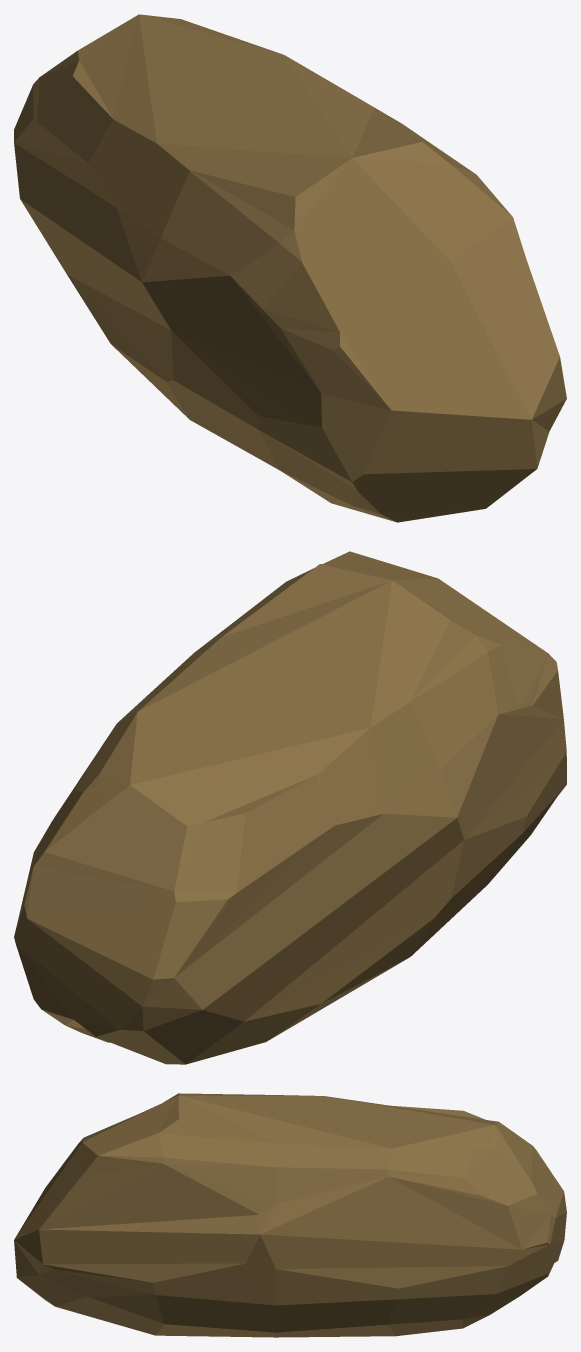
File: rock03.fbx
3 renders of one model, top to bottom at view 1: azimuth 30°, elevation 25°; view 2: azimuth 150°, elevation 25°; view 3: azimuth 270°, elevation 25°, orthographic. The views are drawn at different scales.
Parts seen in each view (by area): view 1: rock03; view 2: rock03; view 3: rock03.
Boxes of the visible parts, box(x1,y1,x2,y2) form: rock03: box(14, 14, 566, 522); rock03: box(14, 551, 566, 1064); rock03: box(14, 1093, 566, 1337).
Bounding box in the file's own units: 128 × 131 × 300.
